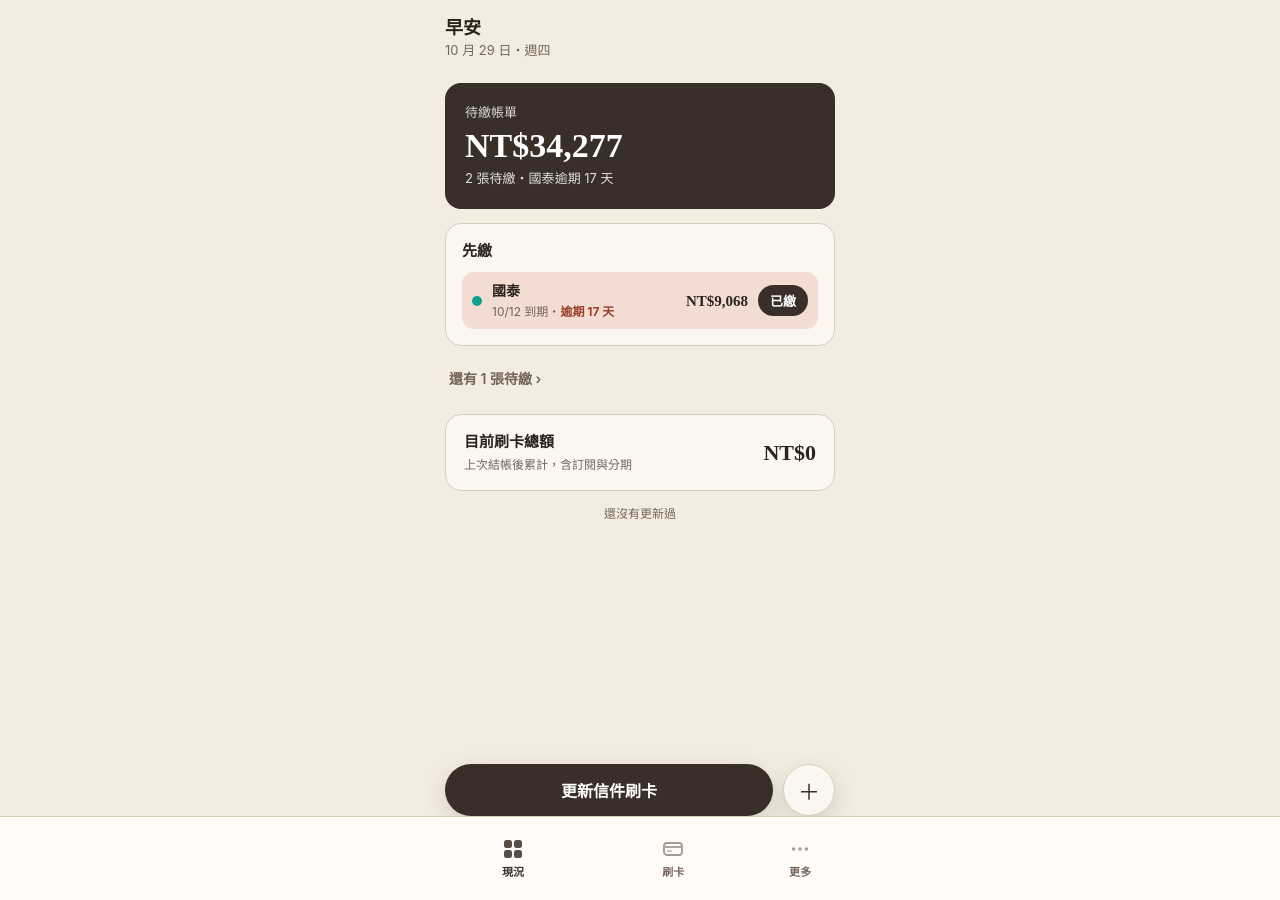
帳單轉分期 › 只轉一部分：剩下的還留在那期，並標出已轉分期的金額
The image size is (1280, 900).
Click the button "更多".
click(800, 858)  # box [754,826,847,890]
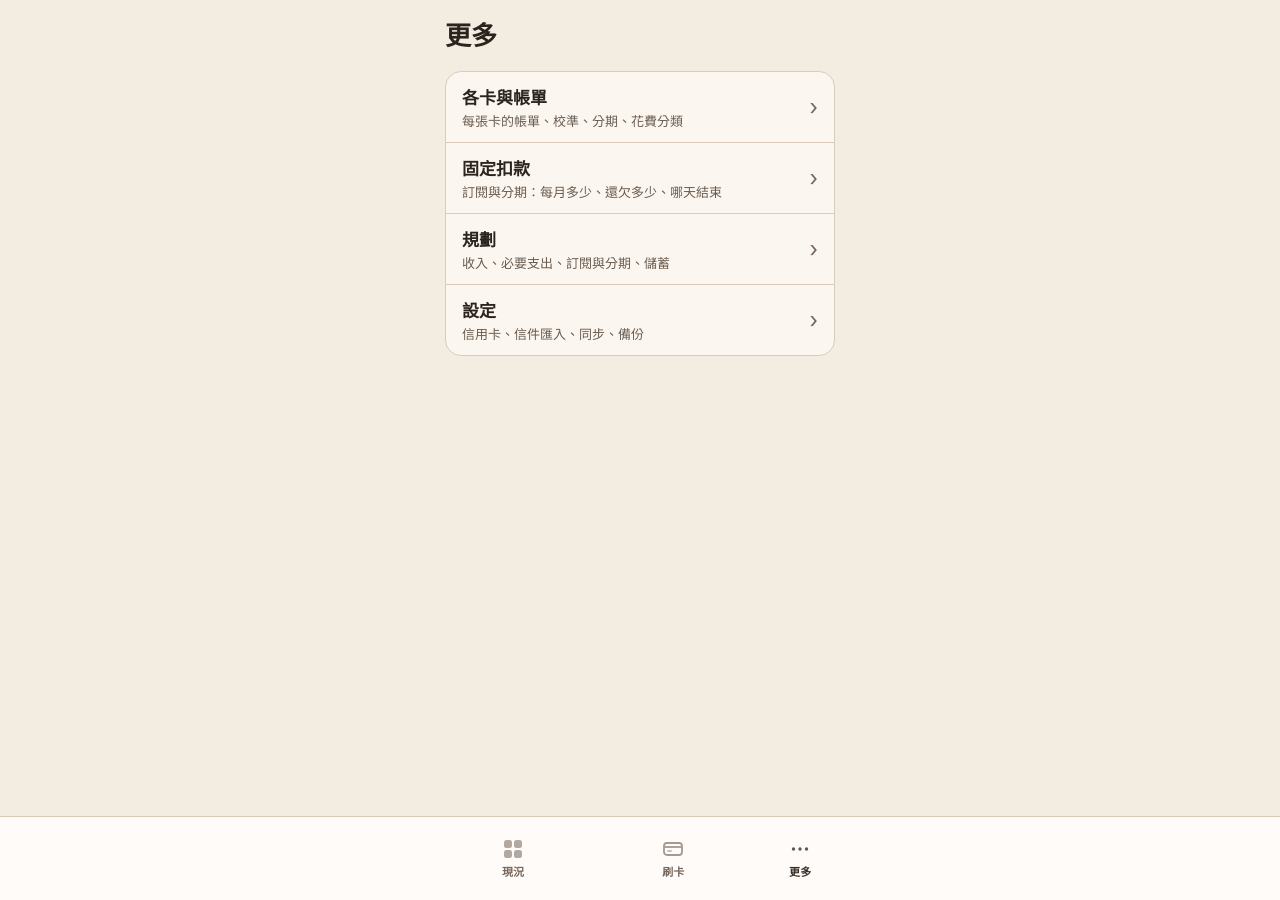
Click the button "各卡與帳單 每張卡的帳單、校準、分期、花費分類 ›".
click(504, 98)  # box [446,72,834,142]
(page scrolled)
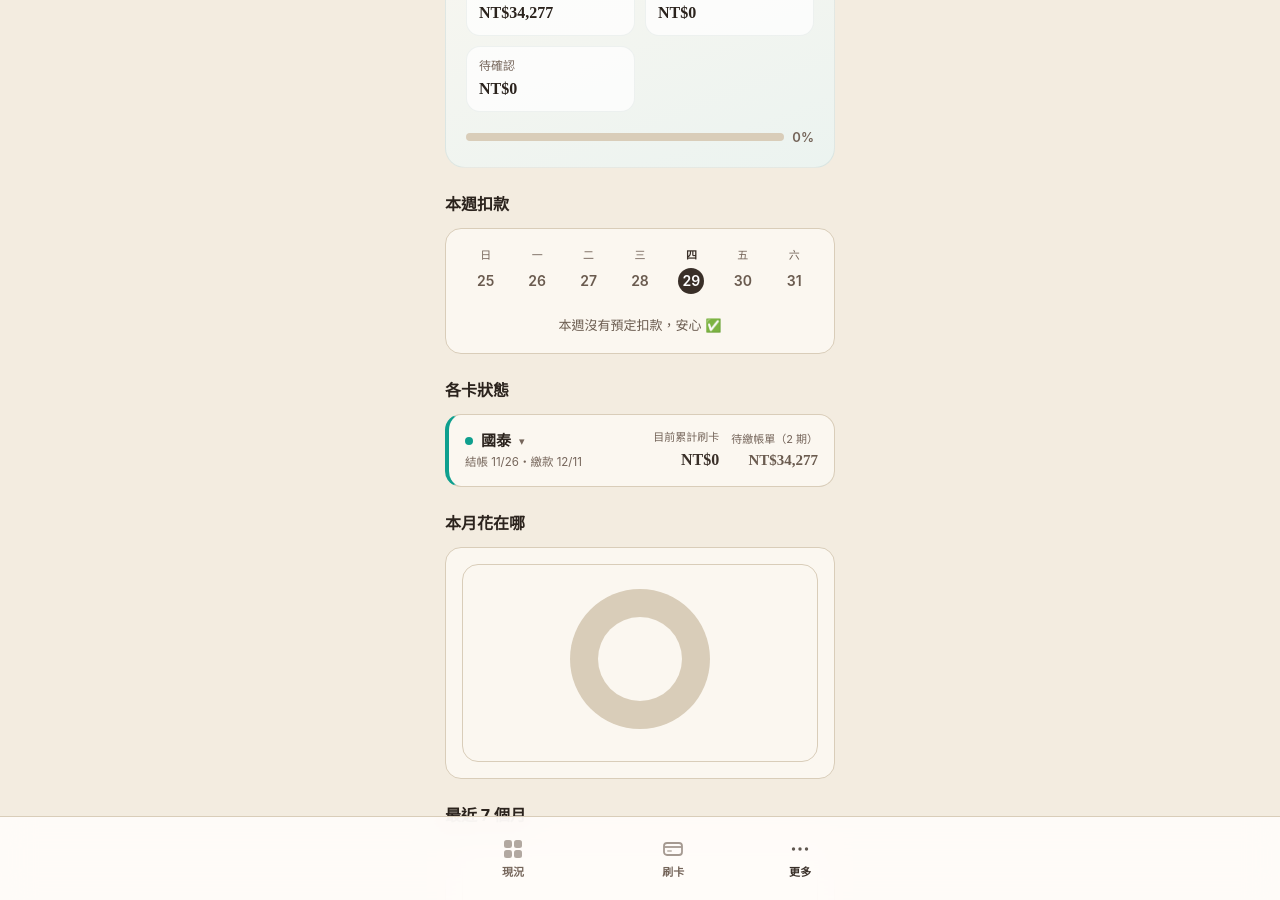
Click the button with class "credit-card-summary-row".
click(496, 440)  # box [449,415,834,486]
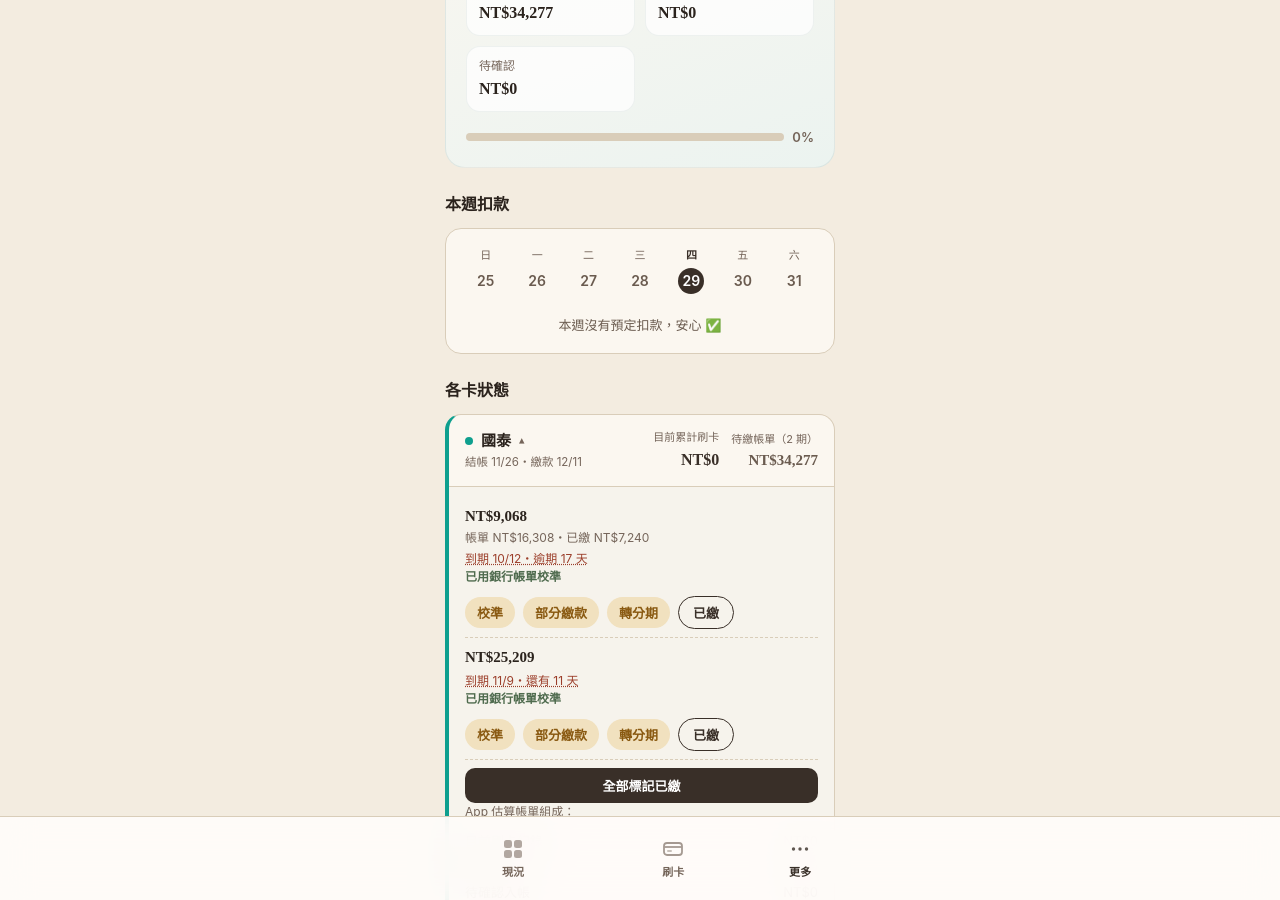
Click the button "轉分期" below "NT$16,308".
click(638, 613)  # box [607,597,670,628]
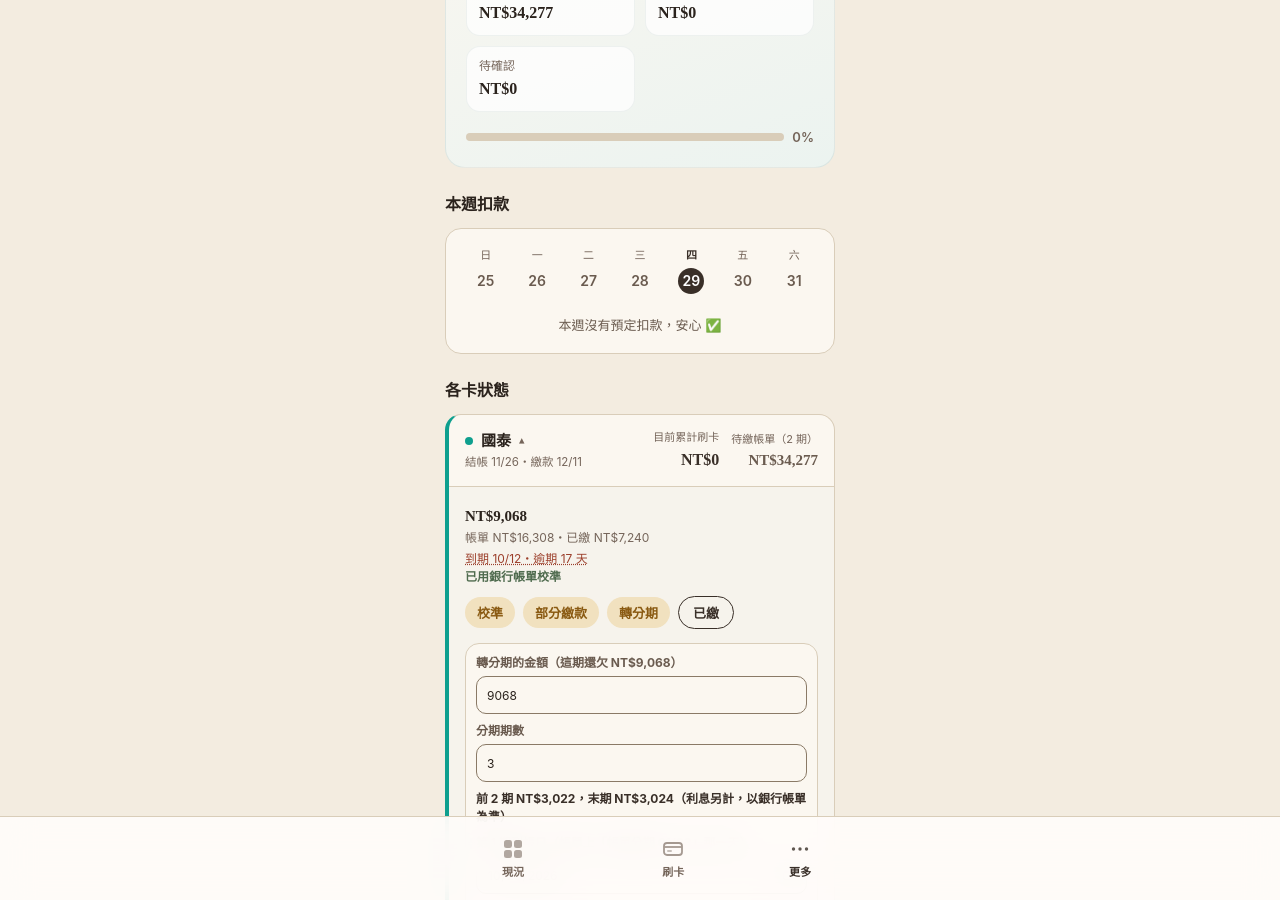
Replace the text in the number field labelled "轉分期的金額（這期還欠 NT$9,068）" with "5000" at (642, 695), box [476,676,807,714]
(page scrolled)
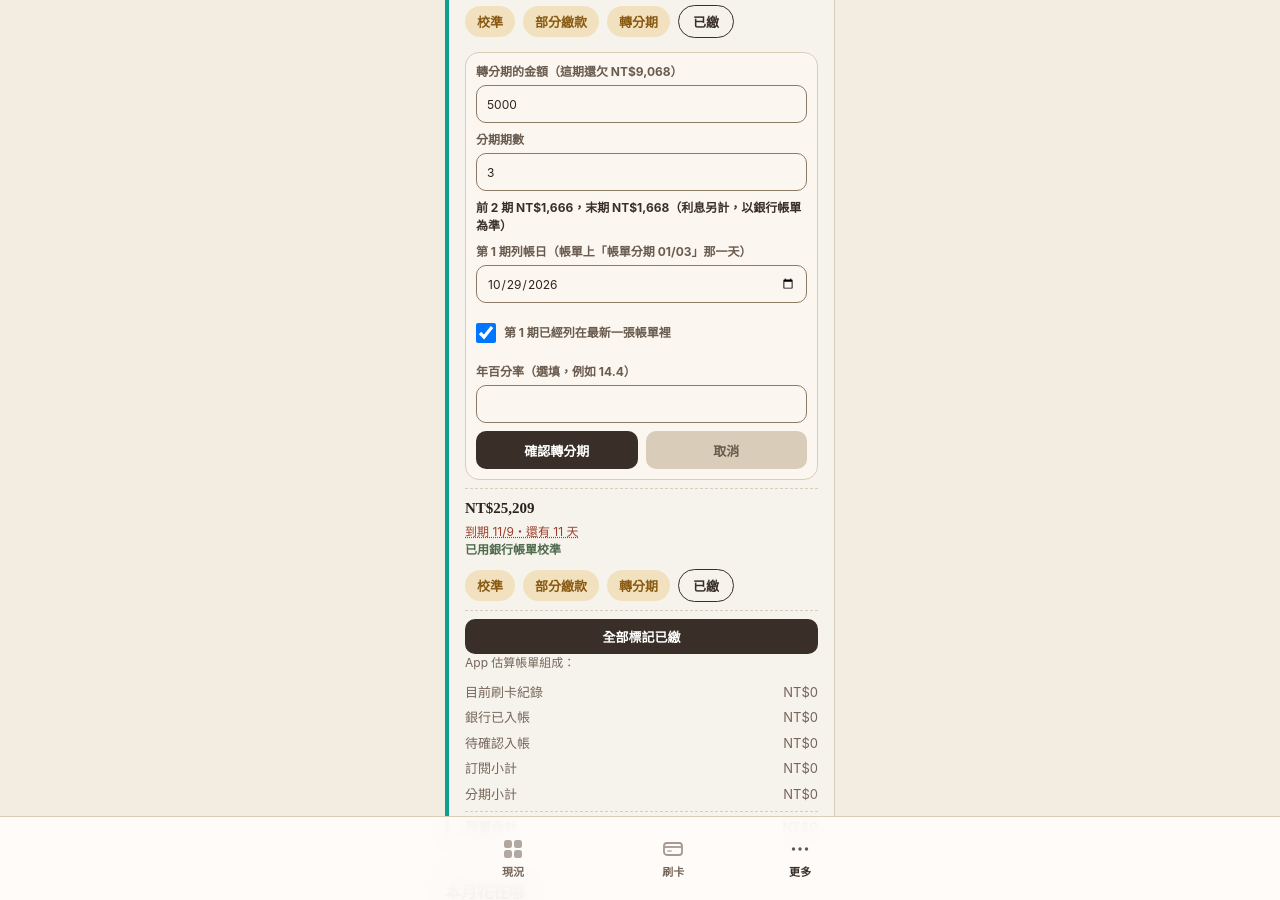
Click the button "確認轉分期".
click(557, 450)  # box [476,431,638,469]
(page scrolled)
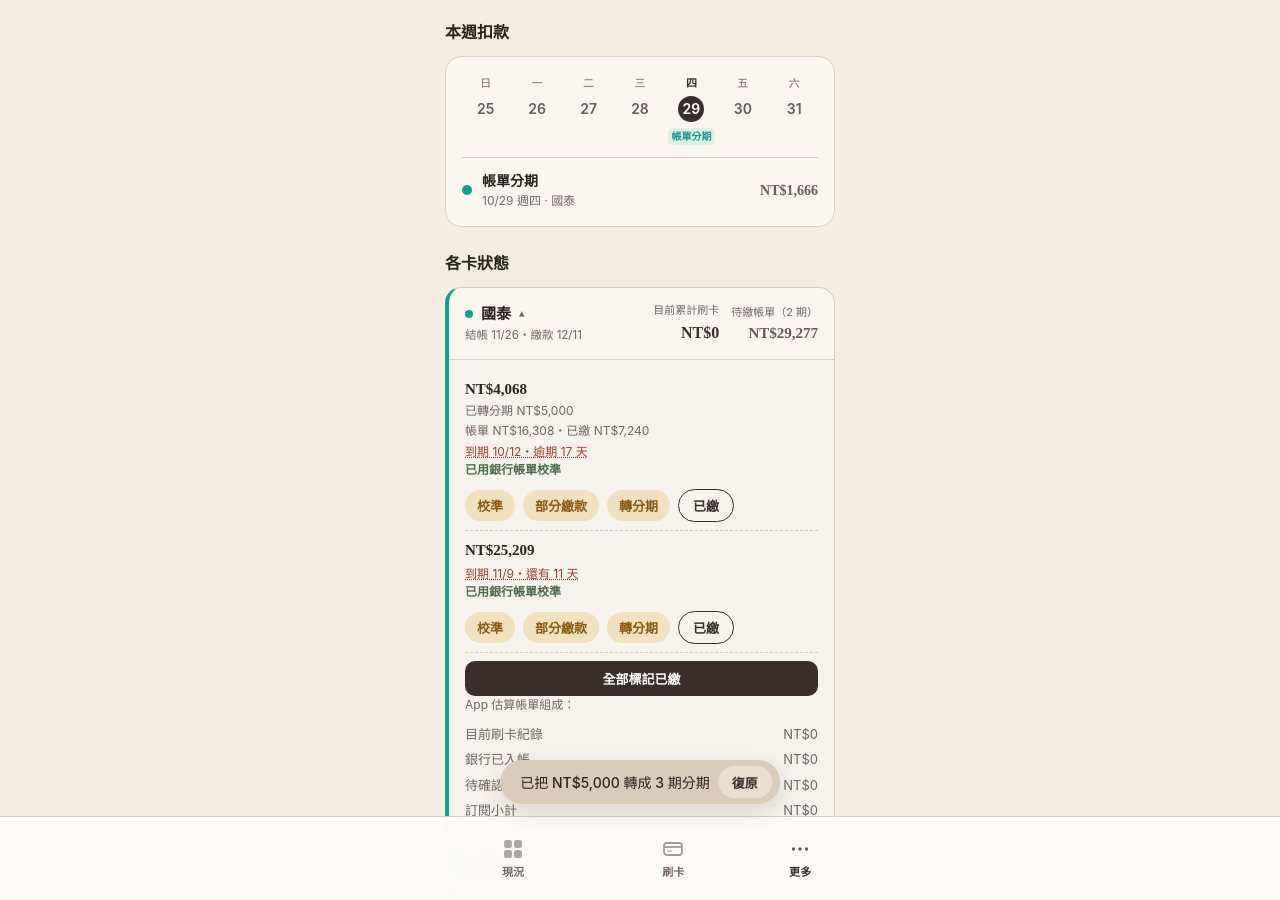
expect the element with class "credit-card-cycle-row" shows "已轉分期 NT$5,000": met, box [465,370,818,531]
expect the element with class "credit-card-cycle-row" shows "NT$4,068": met, box [465,381,527,397]
